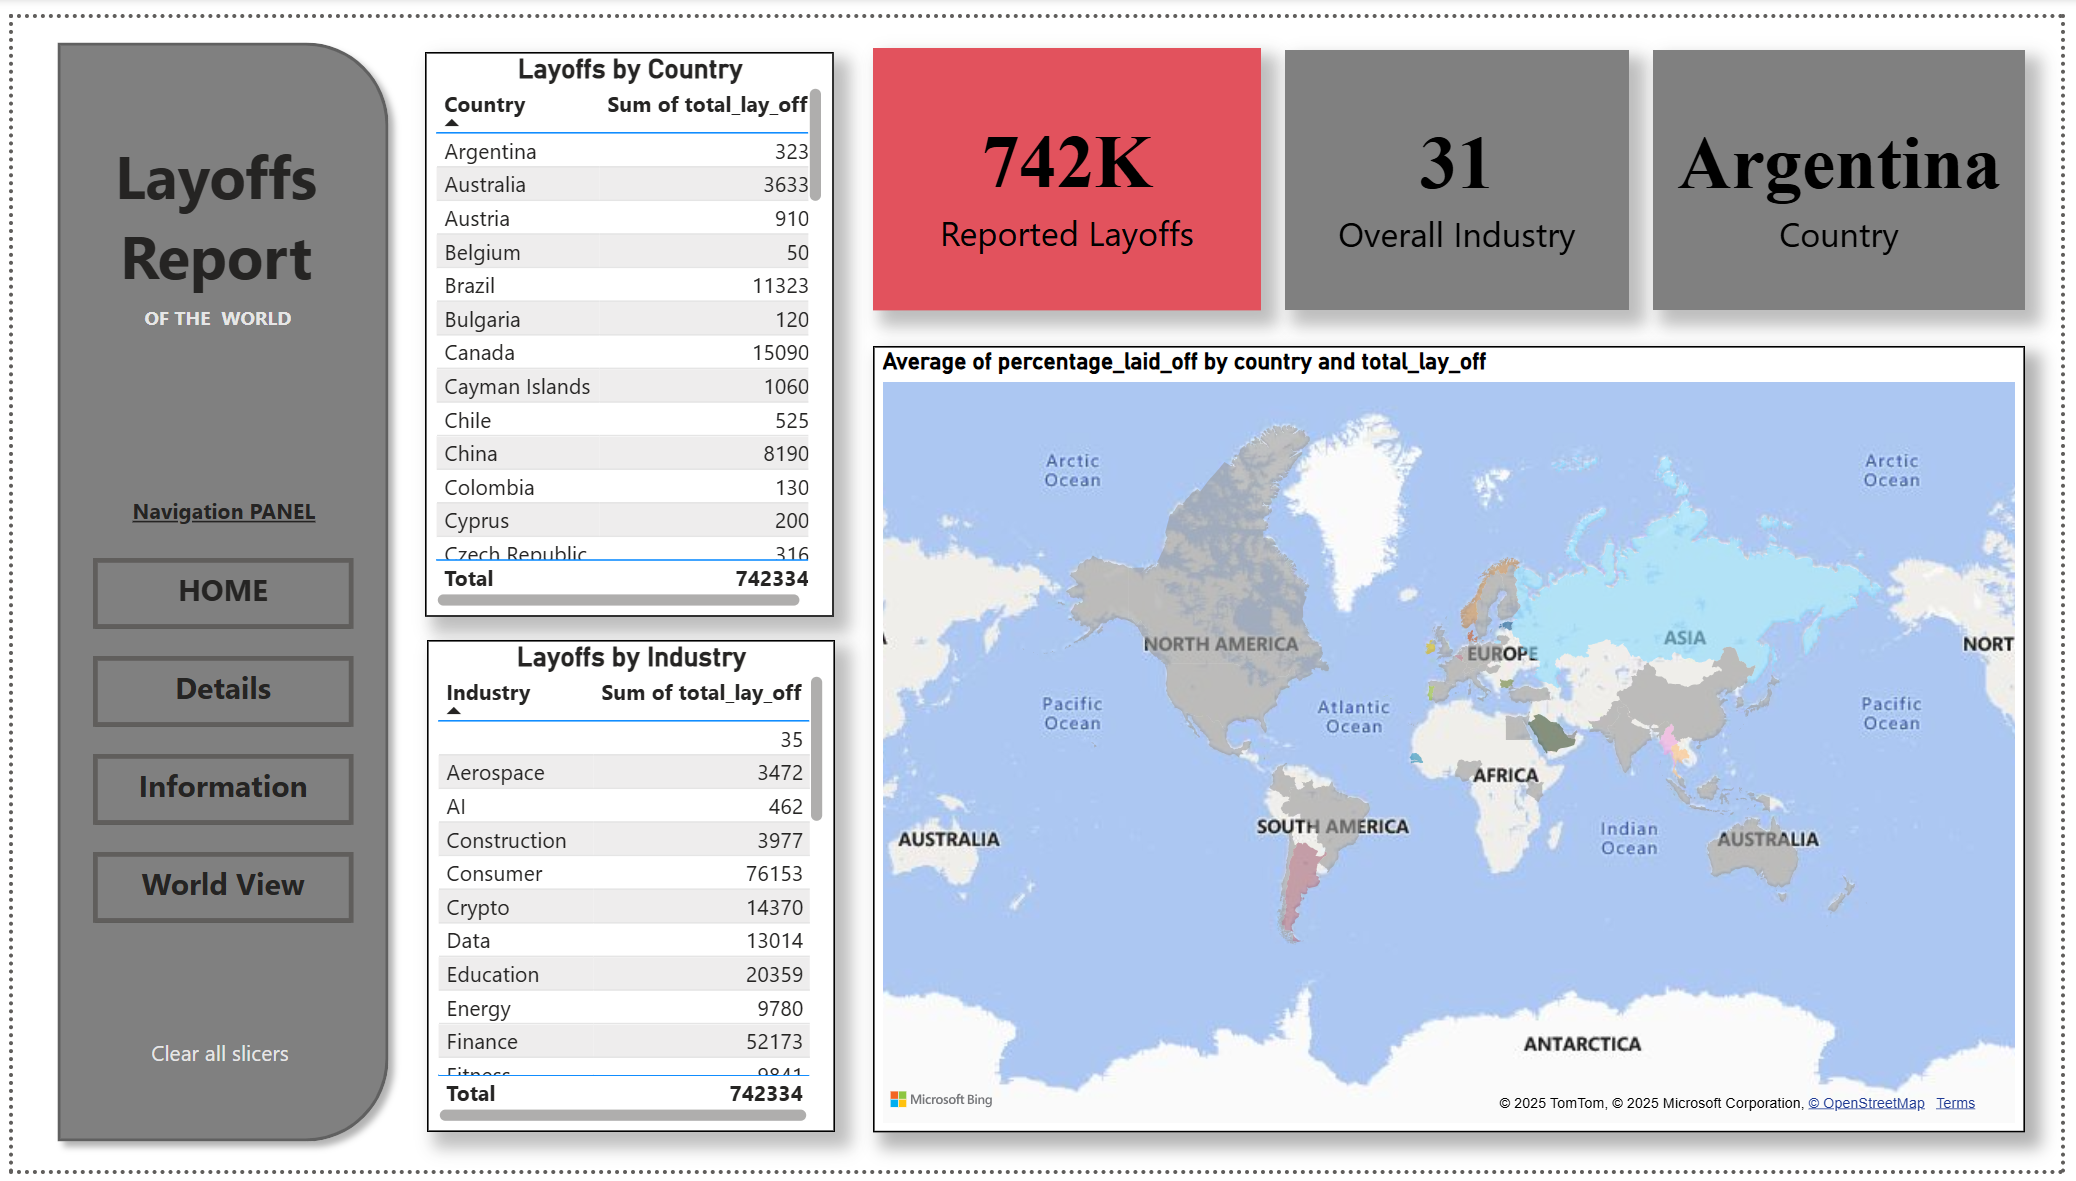

The dashboard page shown, as its layout file describes it:
{"tool":"powerbi","page":{"name":"Home","canvas":[1280,720],"ordinal":0},"visuals":[{"type":"shape","box":[18.8,6.2,225,705],"z":0},{"type":"card","title":"Reported Layoffs","fields":{"Values":["Sum(Tech Layoffs Working.total_laid_off)"]},"box":[537.5,18.8,242.5,163.8],"z":1000},{"type":"filledMap","fields":{"Category":["Tech Layoffs Working.country"],"Series":["Tech Layoffs Working.total_laid_off"],"Y":["Avg(Tech Layoffs Working.percentage_laid_off)"]},"box":[537.5,205,720,491.2],"z":2000},{"type":"card","title":"Reported Layoffs","fields":{"Values":["Count(Tech Layoffs Working.industry)"]},"box":[795,20,215,162.5],"z":3000},{"type":"card","title":"Reported Layoffs","fields":{"Values":["Min(Tech Layoffs Working.country)"]},"box":[1025,20,232.5,162.5],"z":4000},{"type":"tableEx","title":"Layoffs by Country","fields":{"Values":["Tech Layoffs Working.country","Sum(Tech Layoffs Working.total_laid_off)"]},"box":[257.1,21.4,255.7,352.9],"z":5000},{"type":"tableEx","title":"Layoffs by Industry","fields":{"Values":["Tech Layoffs Working.industry","Sum(Tech Layoffs Working.total_laid_off)"]},"box":[258.8,388.8,255,307.5],"z":6000},{"type":"textbox","box":[46.2,67.5,161.2,115],"z":7000},{"type":"textbox","box":[63.8,293.8,136.2,32.5],"z":8000},{"type":"textbox","box":[58.8,172.5,138.8,30],"z":9000},{"type":"textbox","box":[50,460,162.5,43.8],"z":10000},{"type":"textbox","box":[50,398.8,162.5,43.8],"z":11000},{"type":"textbox","box":[50,337.5,162.5,43.8],"z":12000},{"type":"actionButton","box":[46.2,621.2,166.2,50],"z":13000},{"type":"textbox","box":[50,521.2,162.5,43.8],"z":14000},{"type":"actionButton","box":[50,337.1,162.9,44.3],"z":14001},{"type":"actionButton","box":[50,398.6,162.9,44.3],"z":14002},{"type":"actionButton","box":[50,460,162.9,44.3],"z":14003},{"type":"actionButton","box":[50,521.4,162.9,44.3],"z":14004}]}

Visuals, with their boxes in screenshot pixels (x1, y1, x2, y2), scaled from the page's 1280x720 canvas onto the 2076x1181 screenshot:
shape: region(30, 10, 395, 1167)
"Reported Layoffs" card: region(872, 31, 1265, 300)
filledMap - Tech Layoffs Working.country x Tech Layoffs Working.total_laid_off: region(872, 336, 2040, 1142)
"Reported Layoffs" card: region(1289, 33, 1638, 299)
"Reported Layoffs" card: region(1662, 33, 2040, 299)
"Layoffs by Country" tableEx: region(417, 35, 832, 614)
"Layoffs by Industry" tableEx: region(420, 638, 833, 1142)
textbox: region(75, 111, 336, 299)
textbox: region(103, 482, 324, 535)
textbox: region(95, 283, 320, 332)
textbox: region(81, 755, 345, 826)
textbox: region(81, 654, 345, 726)
textbox: region(81, 554, 345, 625)
actionButton: region(75, 1019, 344, 1101)
textbox: region(81, 855, 345, 927)
actionButton: region(81, 553, 345, 626)
actionButton: region(81, 654, 345, 726)
actionButton: region(81, 755, 345, 827)
actionButton: region(81, 855, 345, 928)
